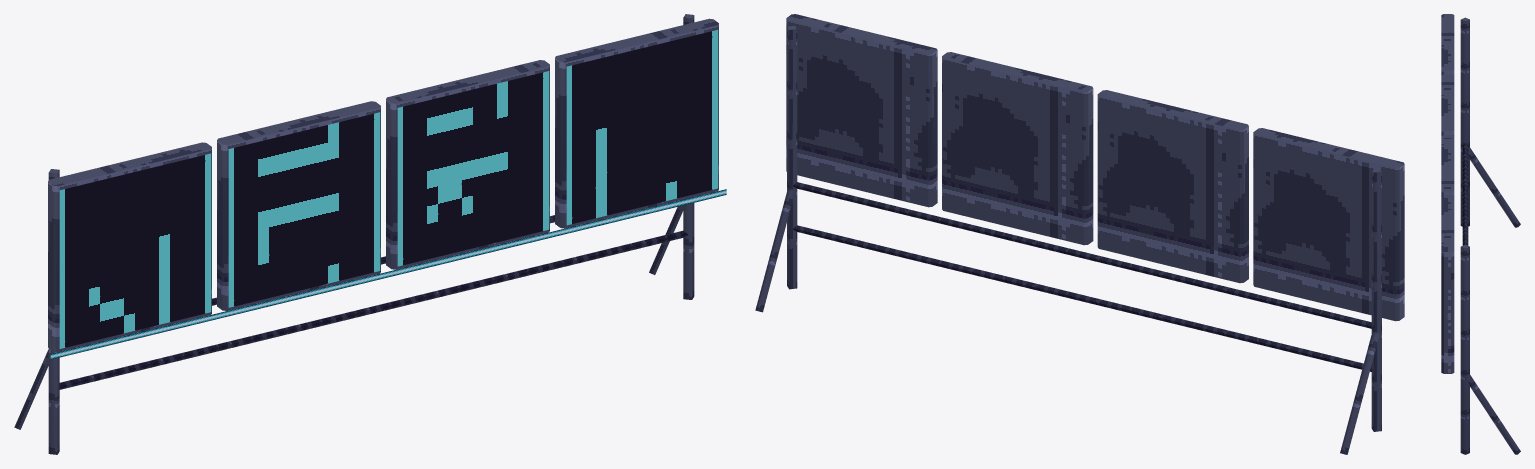
File: cysign.roof.glb
3 views of the same model, side by side, from view 1: azimuth 30°, elevation 25°; view 2: azimuth 150°, elevation 25°; view 3: azimuth 270°, elevation 25° (orthographic). The views are drawn at different scales.
Parts seen in each view (by area): view 1: kit_card_glyphs, kit_panels, kit_lattice; view 2: kit_panels, kit_lattice; view 3: kit_lattice, kit_panels.
Part boxes in pixels (x1,y1,x2,y2): kit_card_glyphs: (50, 30, 726, 359); kit_panels: (48, 18, 718, 352); kit_lattice: (14, 14, 694, 454); kit_panels: (786, 14, 1404, 321); kit_lattice: (755, 25, 1381, 454); kit_lattice: (1460, 17, 1520, 454); kit_panels: (1441, 14, 1454, 373).
Size of the model in its own units: 9.8 by 3.93 by 1.39.
Materials: 5 (5 with a texture image).
